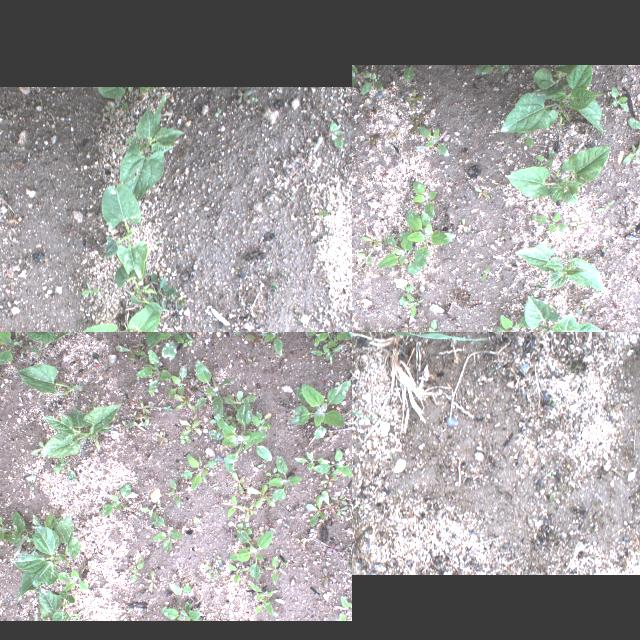crop: (496, 65, 602, 137), (118, 92, 184, 200), (501, 145, 612, 205), (36, 402, 122, 472), (12, 514, 80, 602), (100, 180, 148, 282), (509, 243, 603, 291), (293, 382, 349, 441), (521, 294, 604, 332), (76, 300, 161, 332), (12, 362, 82, 396), (37, 586, 77, 620), (8, 332, 84, 343), (96, 86, 132, 100)
weed: (376, 205, 456, 275), (208, 387, 272, 473), (242, 456, 302, 522), (115, 266, 189, 310), (228, 526, 274, 582), (134, 332, 212, 359), (130, 349, 170, 395), (298, 447, 352, 480), (142, 510, 182, 554), (304, 488, 348, 526), (194, 360, 236, 396), (304, 332, 352, 362), (180, 454, 217, 492), (410, 124, 448, 158), (0, 332, 40, 364), (617, 116, 640, 165), (0, 509, 25, 552), (256, 332, 299, 356), (100, 484, 132, 516), (408, 178, 437, 212), (352, 66, 383, 97), (530, 211, 568, 235), (398, 286, 424, 320), (248, 582, 272, 616), (52, 568, 86, 592), (264, 556, 288, 586), (161, 602, 201, 620), (533, 142, 561, 166), (494, 309, 523, 332), (172, 392, 204, 412), (168, 365, 186, 399), (607, 84, 629, 110), (114, 342, 142, 360), (178, 420, 200, 442), (472, 66, 510, 78), (358, 131, 378, 153), (226, 562, 244, 586), (117, 419, 147, 433), (328, 120, 342, 148), (359, 235, 385, 249), (230, 470, 244, 496), (134, 398, 154, 416), (454, 213, 470, 235), (80, 283, 98, 301), (594, 198, 614, 214), (352, 250, 372, 266), (415, 321, 444, 332), (168, 479, 180, 505), (339, 597, 352, 620), (226, 494, 238, 518), (130, 557, 142, 581), (168, 584, 192, 596), (383, 452, 401, 468), (568, 217, 588, 231), (235, 88, 252, 104), (152, 429, 168, 446), (596, 238, 608, 260), (476, 264, 489, 284), (397, 321, 415, 332), (402, 67, 416, 81), (543, 490, 557, 504), (140, 86, 164, 94), (474, 185, 490, 197), (148, 570, 156, 592), (114, 100, 126, 110), (268, 282, 278, 294), (213, 105, 221, 116), (348, 368, 352, 381), (250, 96, 258, 102), (113, 146, 119, 152), (266, 259, 272, 265), (156, 240, 162, 244)
